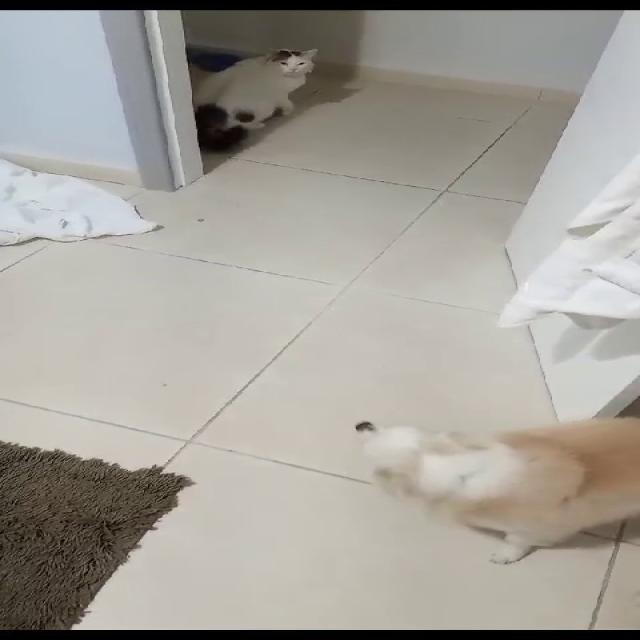Simba: (191, 40, 354, 152)
Theo: (341, 397, 639, 565)
